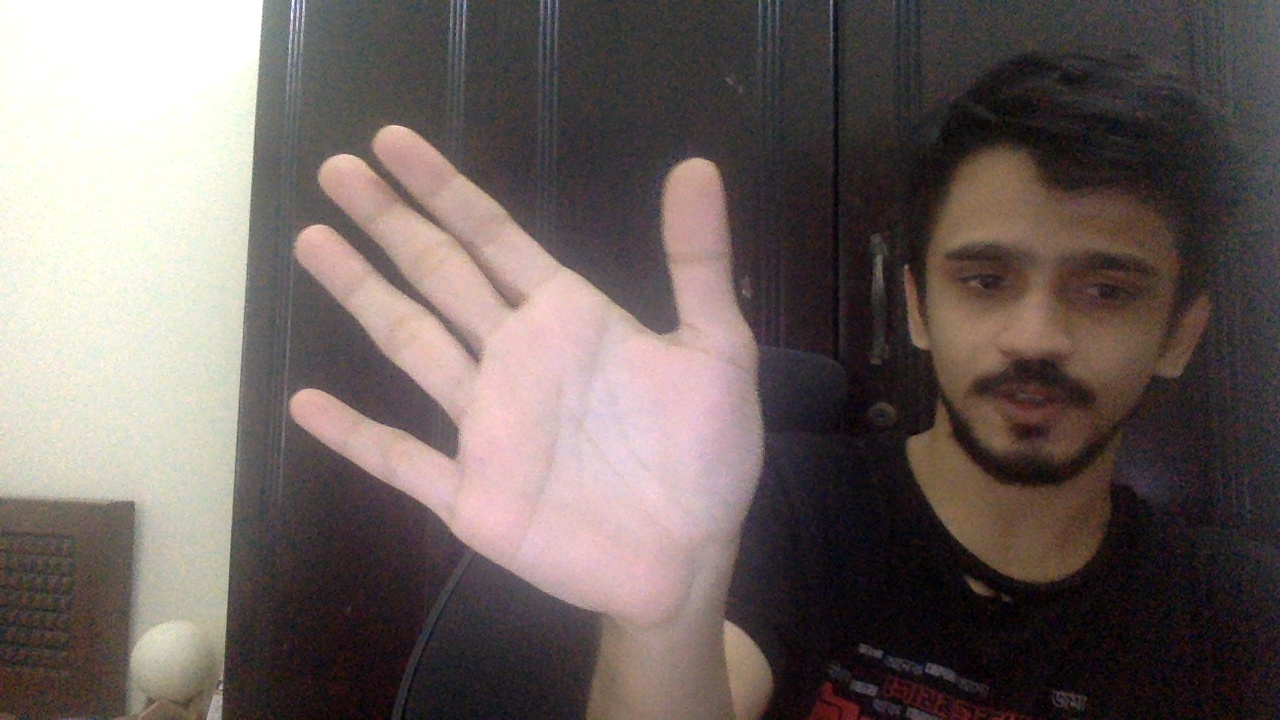stop: (289, 122, 769, 625)
